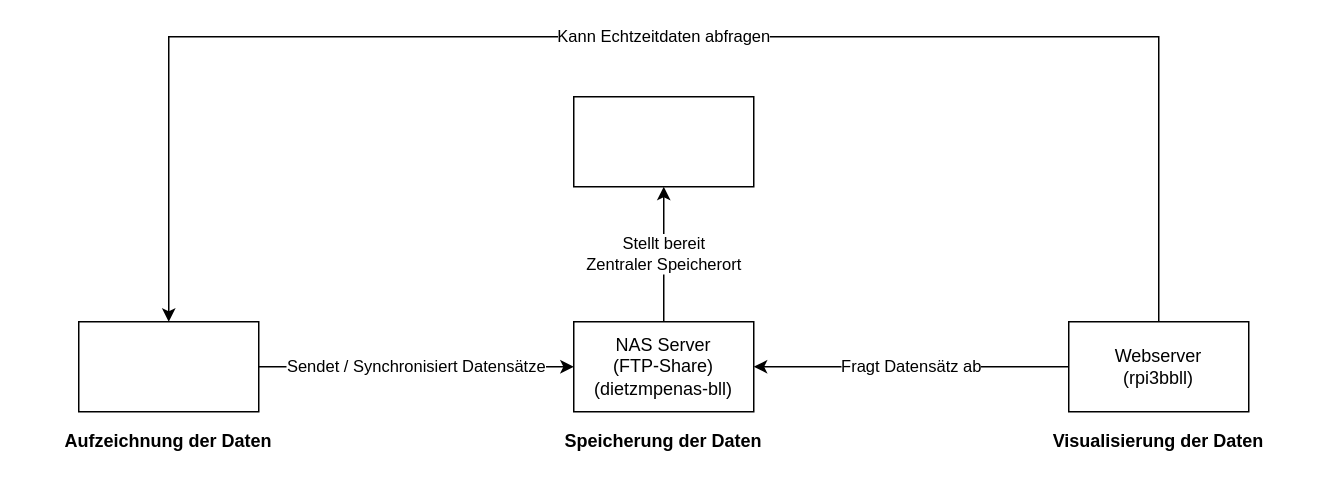
Some shapes in this 1326 by 483 pixel diagram are drawn without their labels. Here are the shapes that lost their labels. From the top down, the box of each, then its label:
(572, 95, 754, 187): dietzmpenas-bll Laufwerk
(77, 320, 259, 412): Messstation (rpi3abll)
